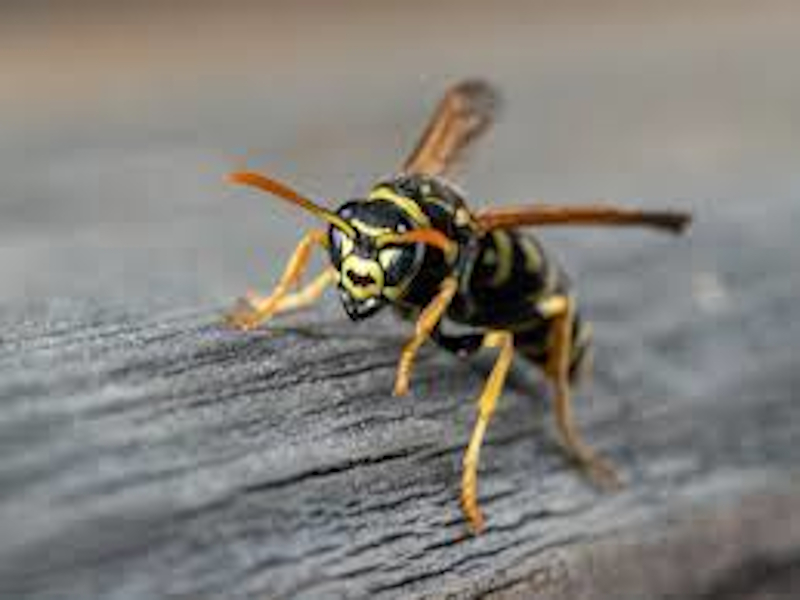chax: (214, 61, 720, 519)
